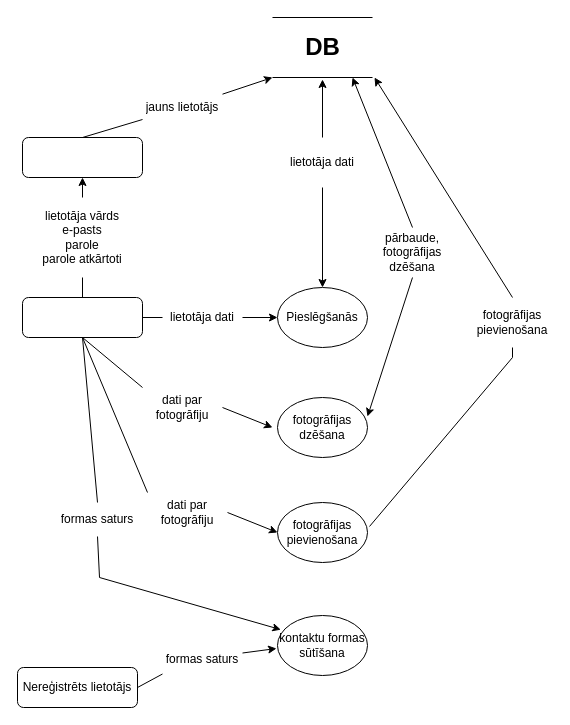
The diagram is 570 pixels wide and 725 high, and some of its shapes have lost their labels. The box of each missing label's shape, as (x1, y1, x2, y2) in pixels:
Jauna lietotāja izveide: (22, 136, 142, 178)
Reģistrēts lietotājs: (22, 296, 142, 338)
